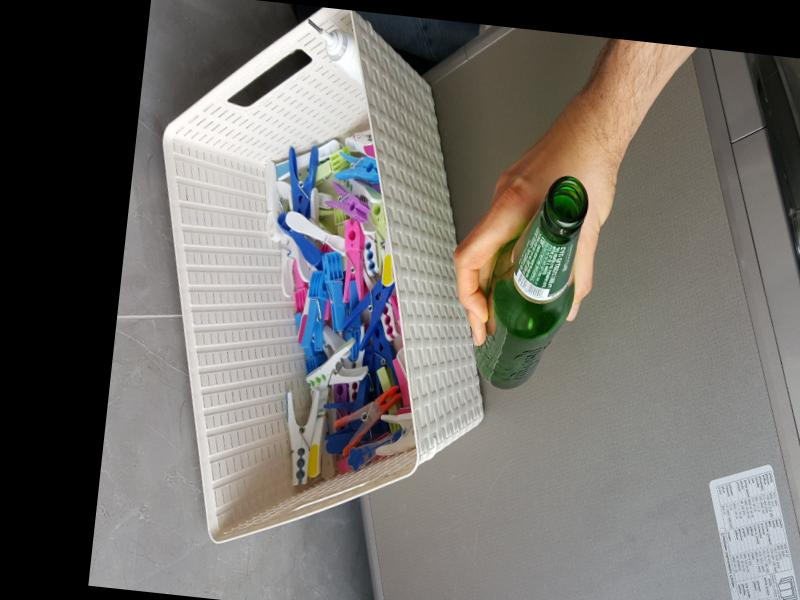Beer: (467, 168, 591, 394)
